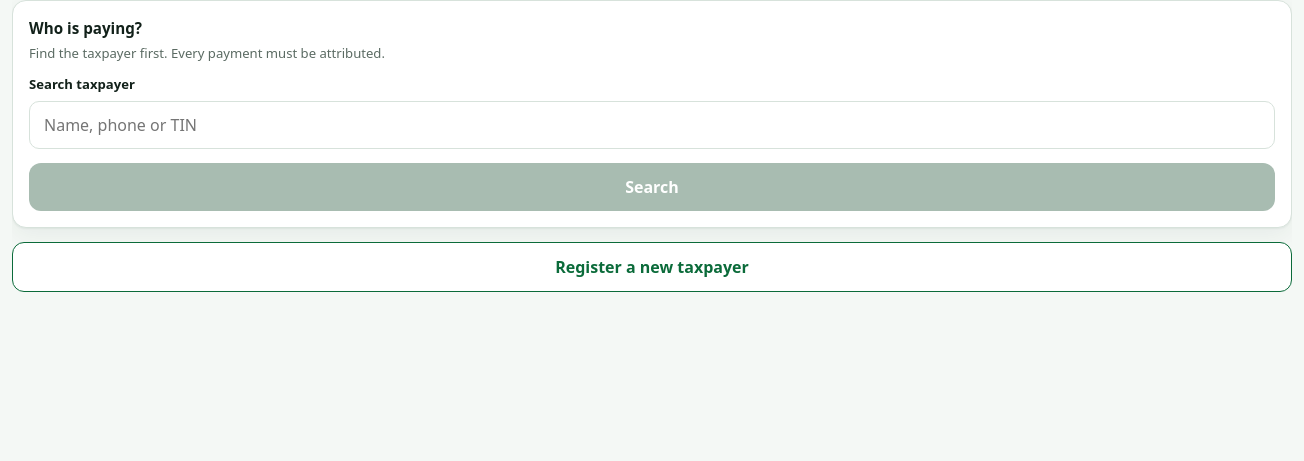
Test case: finding the taxpayer before taking a payment › says nobody matched, rather than leaving the screen unchanged
The width and height of the screenshot is (1304, 461).
Expected: the text "No taxpayer matches" is not shown
Type "nobody by this name" into the search field labelled "Search taxpayer" at [652, 125], box [29,101,1275,149]
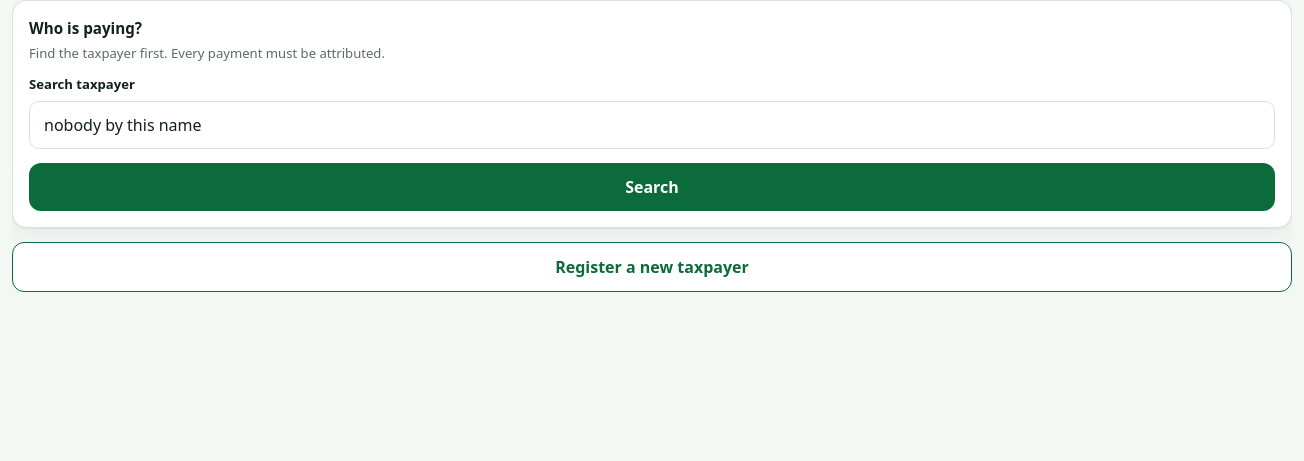
Click the button "Search" at [652, 187], box [29,163,1275,211]
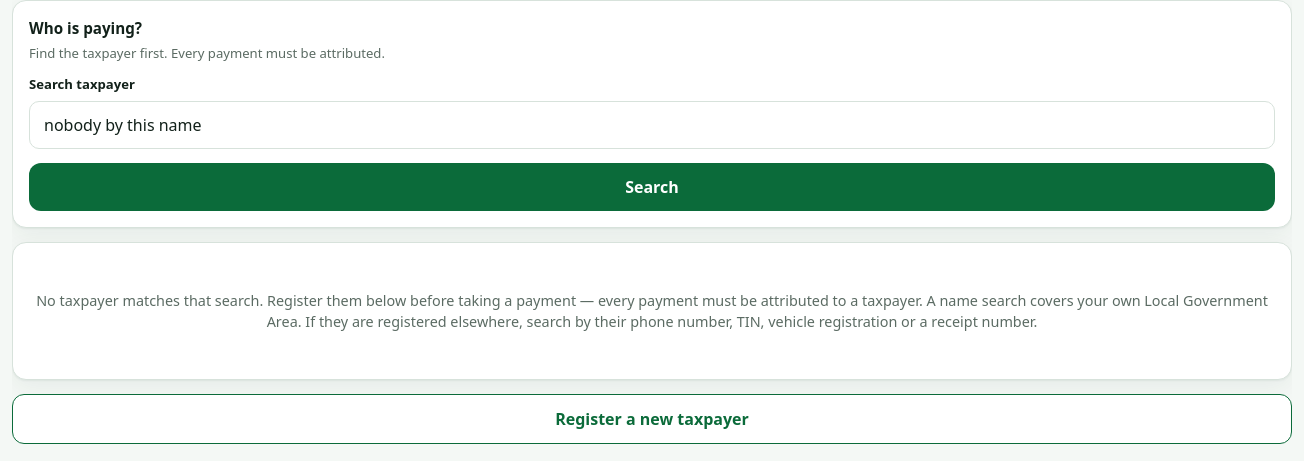
Now the text "No taxpayer matches that search" is shown, box [36,291,923,310]
